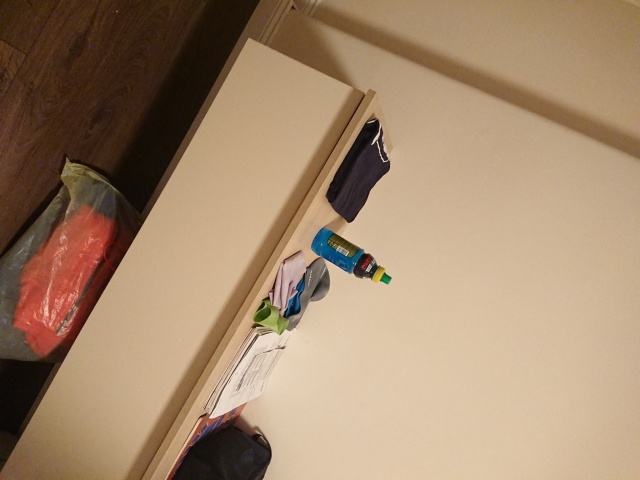Vindi Iso Sport Forest Strawberries 500mL: (309, 225, 392, 284)
